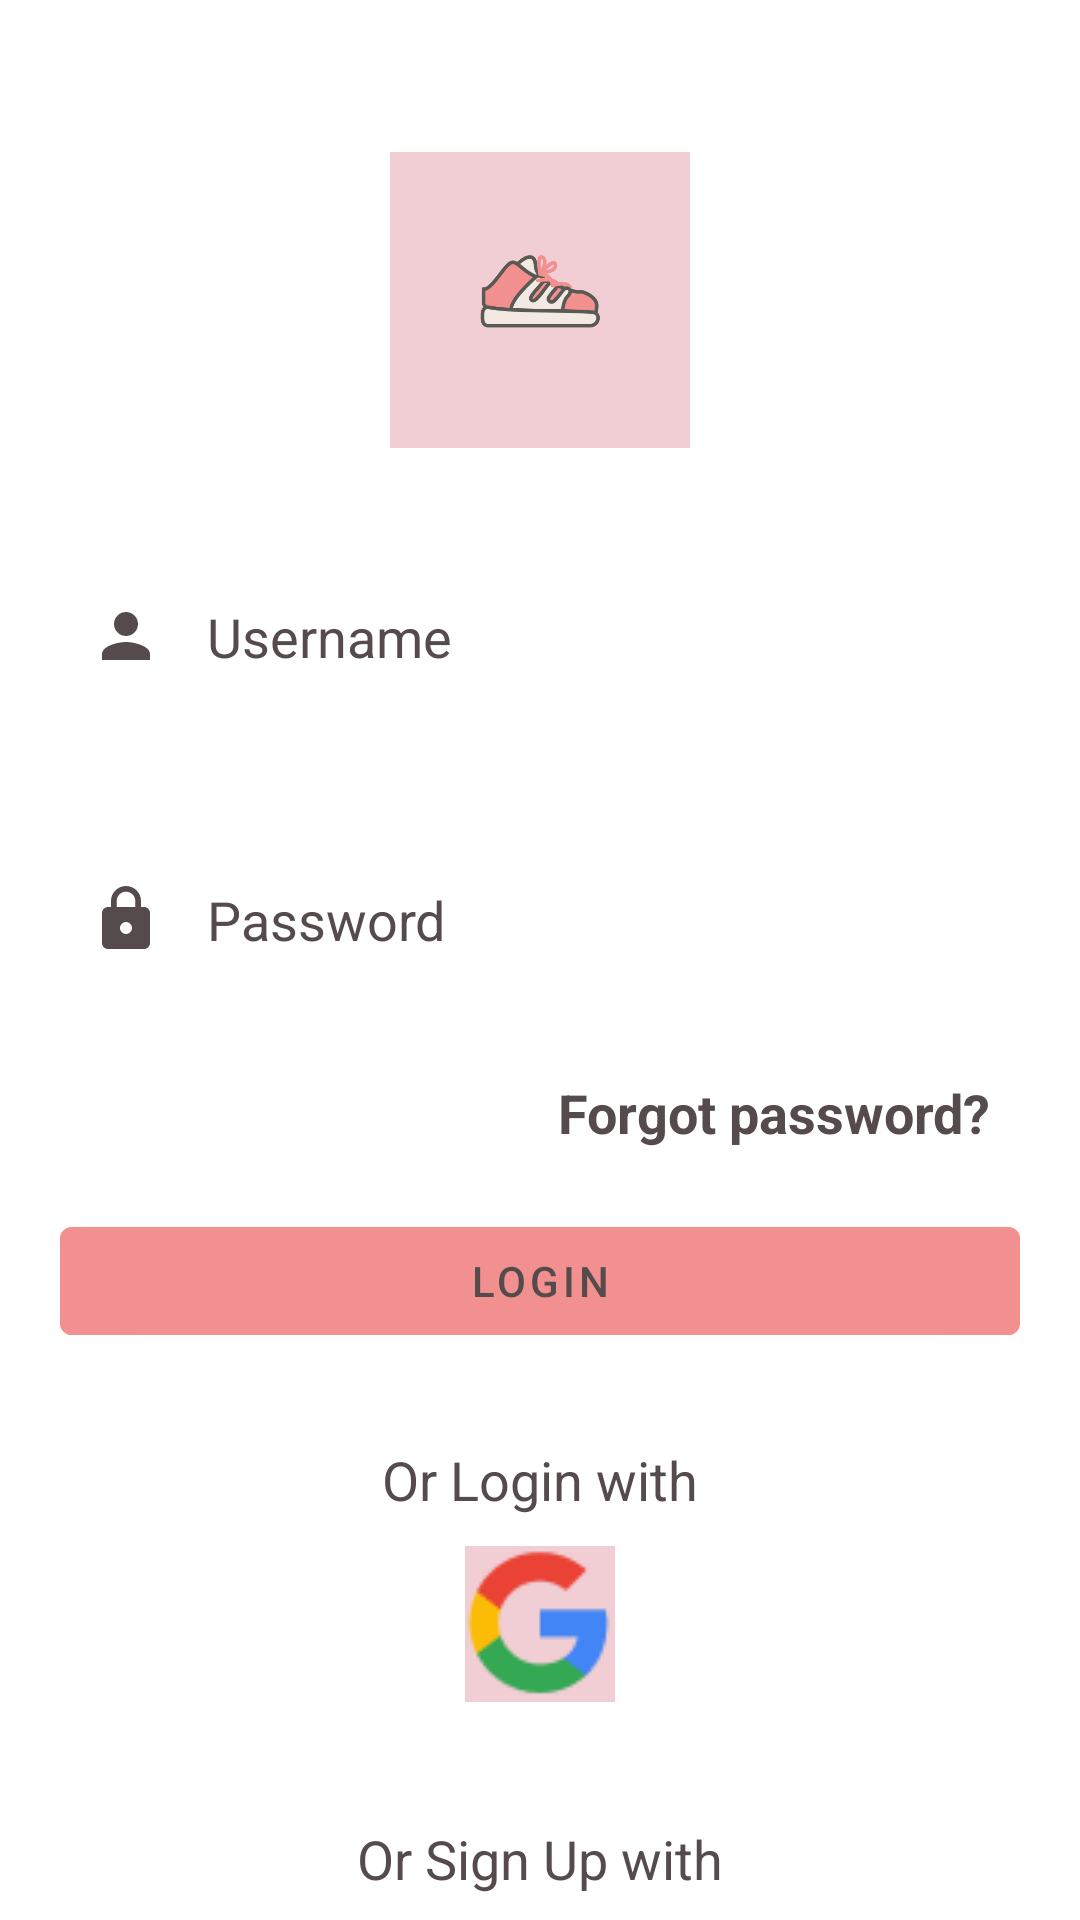

Icon click points for this 1080px x 1920px phone screenshot, format point (x, y):
Icon App: point (540, 300)
